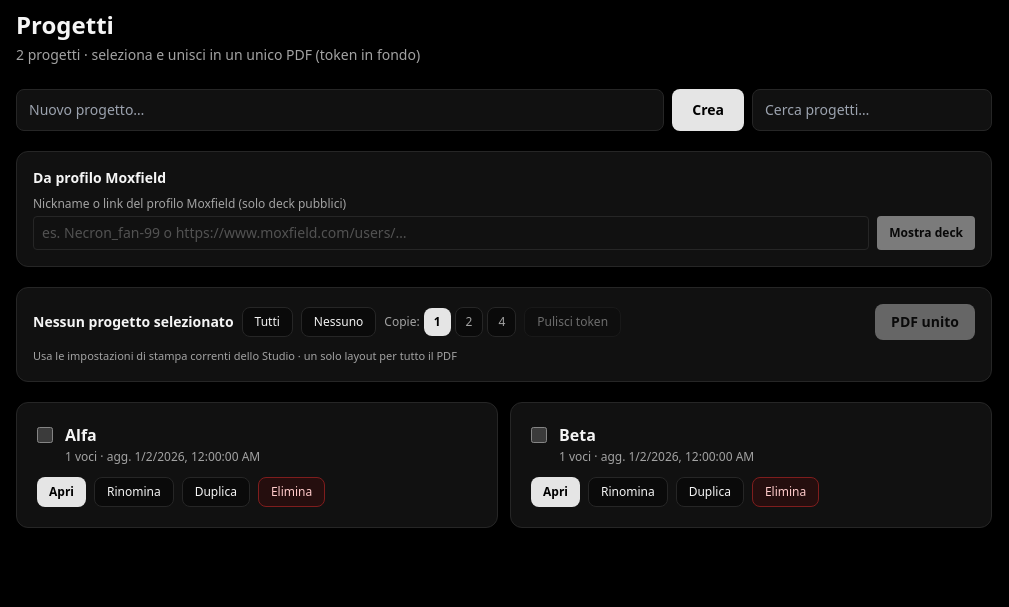
Scenario: ProjectsView export in blocco › seleziona due progetti → un solo PDF unito, token in fondo
Expected: the text "Alfa" is shown, [65,422,97,446]
Click the checkbox named "Seleziona Alfa" at (45, 434), box [37,426,53,442]
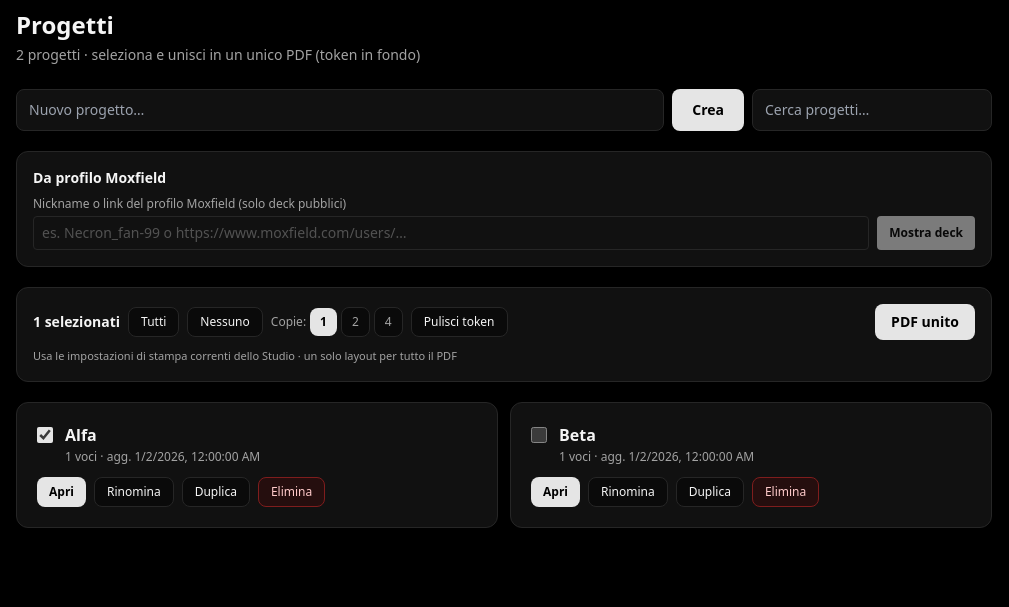
Click the checkbox named "Seleziona Beta" at (539, 434), box [531,426,547,442]
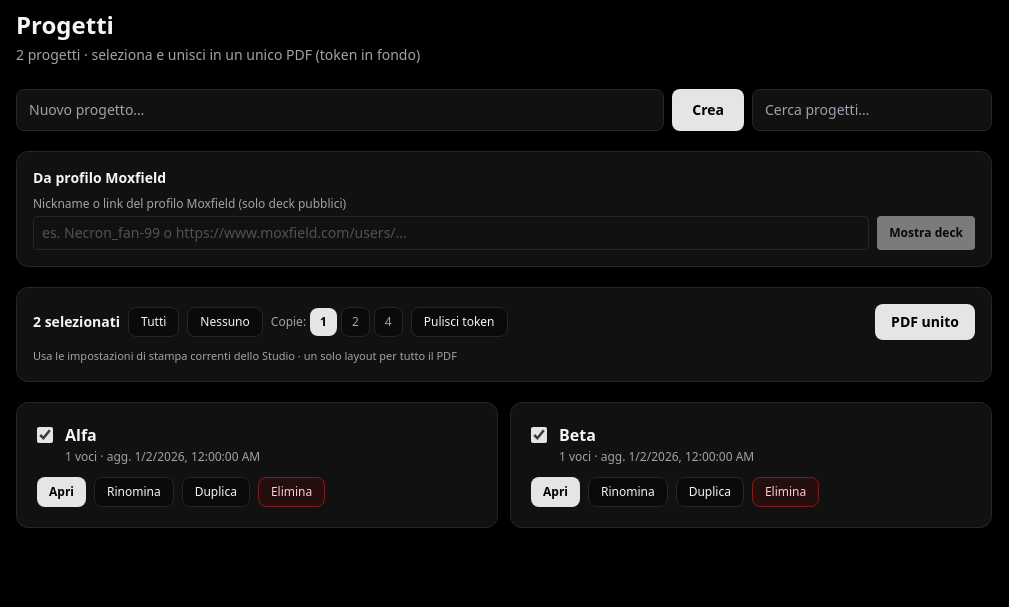
Expected: the text with test id "batch-count" reads "2 selezionati", [33,312,120,331]
Click the button with test id "batch-export" at (925, 322), box [875,304,975,340]
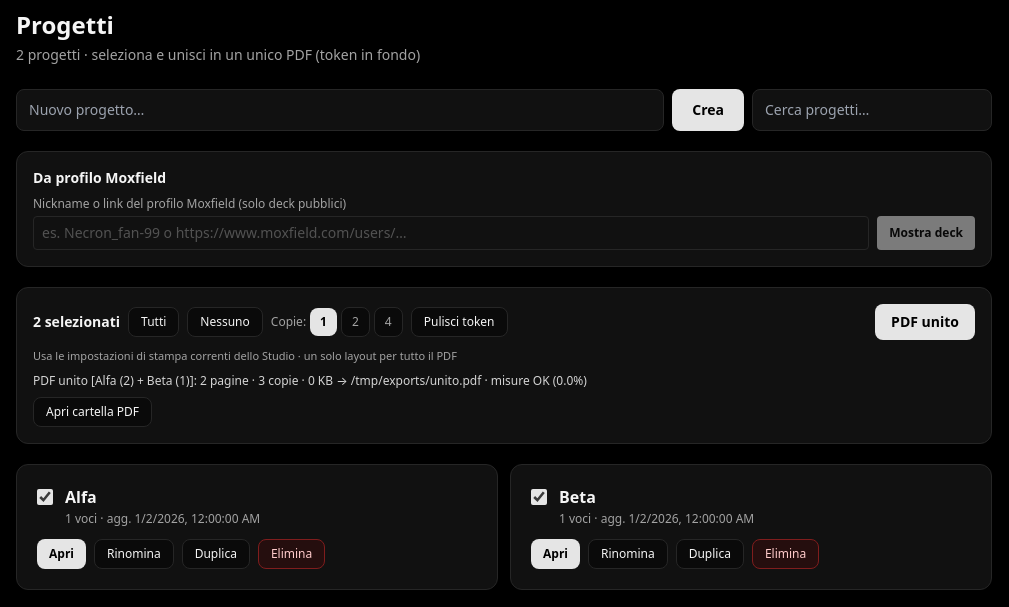
Expected: the text with test id "batch-status" shows "PDF unito", [33,372,587,388]
Expected: the text with test id "batch-status" shows "misure OK", [33,372,587,388]
Expected: the button with test id "batch-open-dir" reads "Apri cartella PDF", [33,396,152,426]
